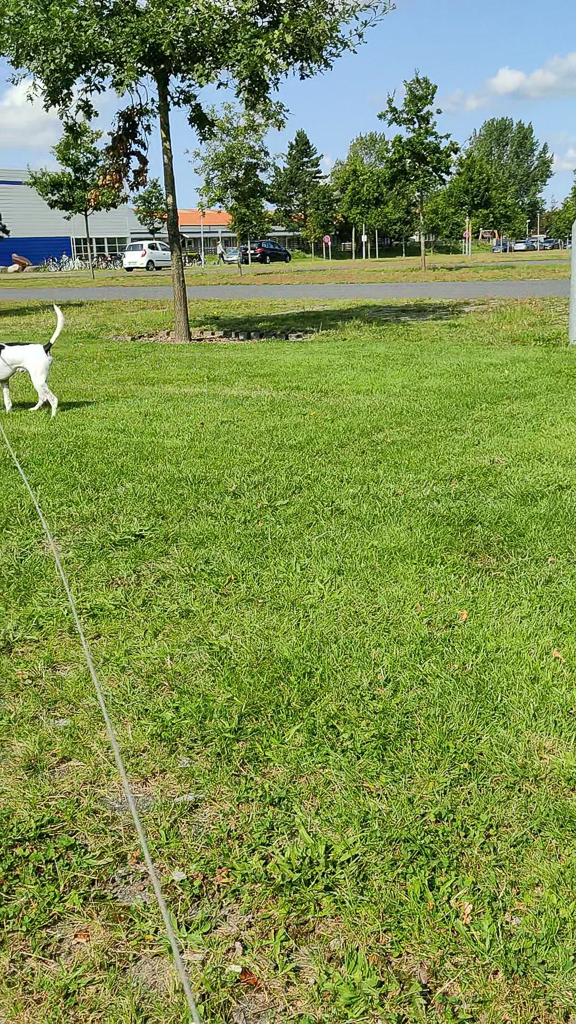Dog: (0, 296, 75, 432)
